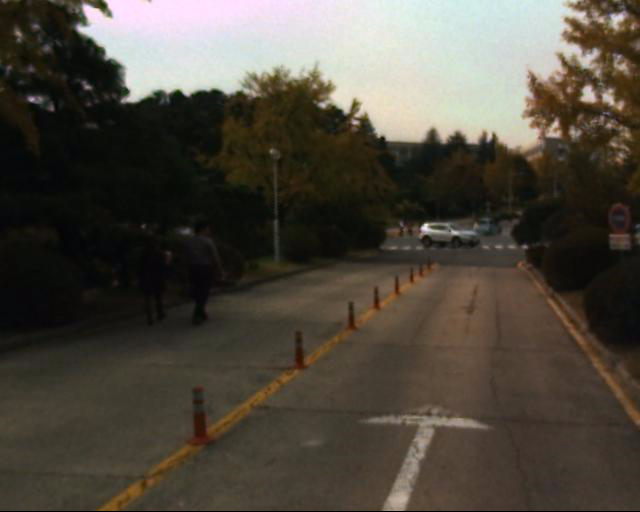person: (182, 217, 220, 328), (139, 230, 175, 327)
